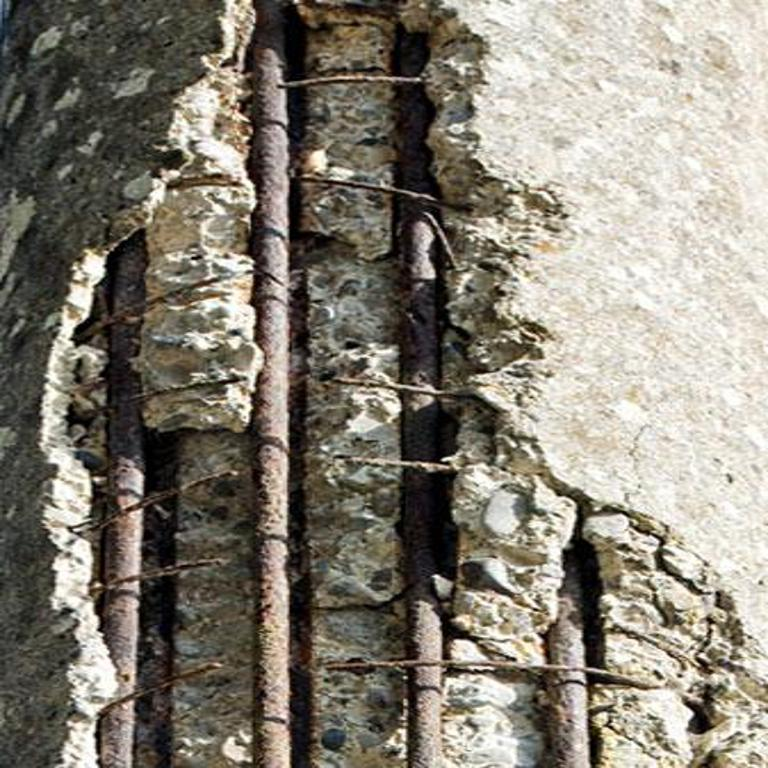exposed_rebar: (252, 0, 291, 767), (102, 231, 147, 695), (99, 699, 135, 768)
spalling: (38, 0, 766, 768)
